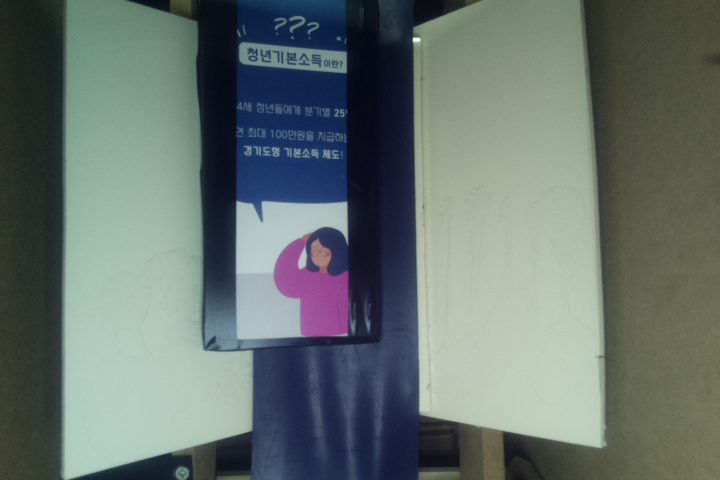book: (200, 1, 383, 352)
